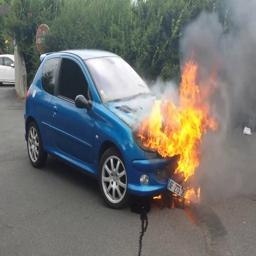fire: (135, 59, 222, 207)
